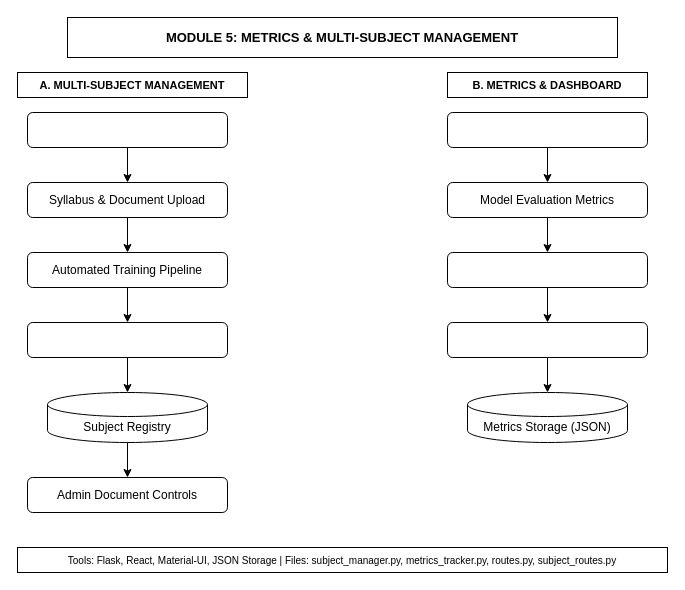
This 685x590 diagram has some shape labels left out. Each missing label, with the centre of its shape:
Admin Subject Creation: [127,130]
Latency & Confidence Tracking: [547,270]
Per-Layer Usage Tracking: [547,130]
Per-Subject Data Isolation: [127,340]
Student Feedback Collection: [547,340]
